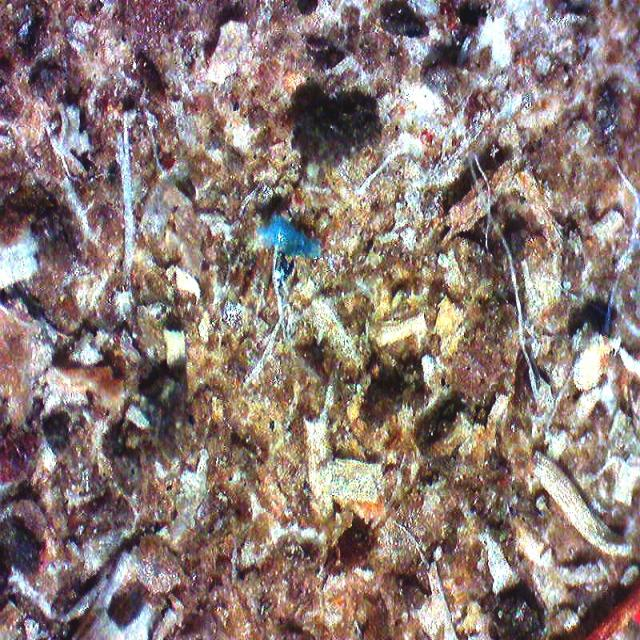microplastic: (260, 214, 322, 258)
